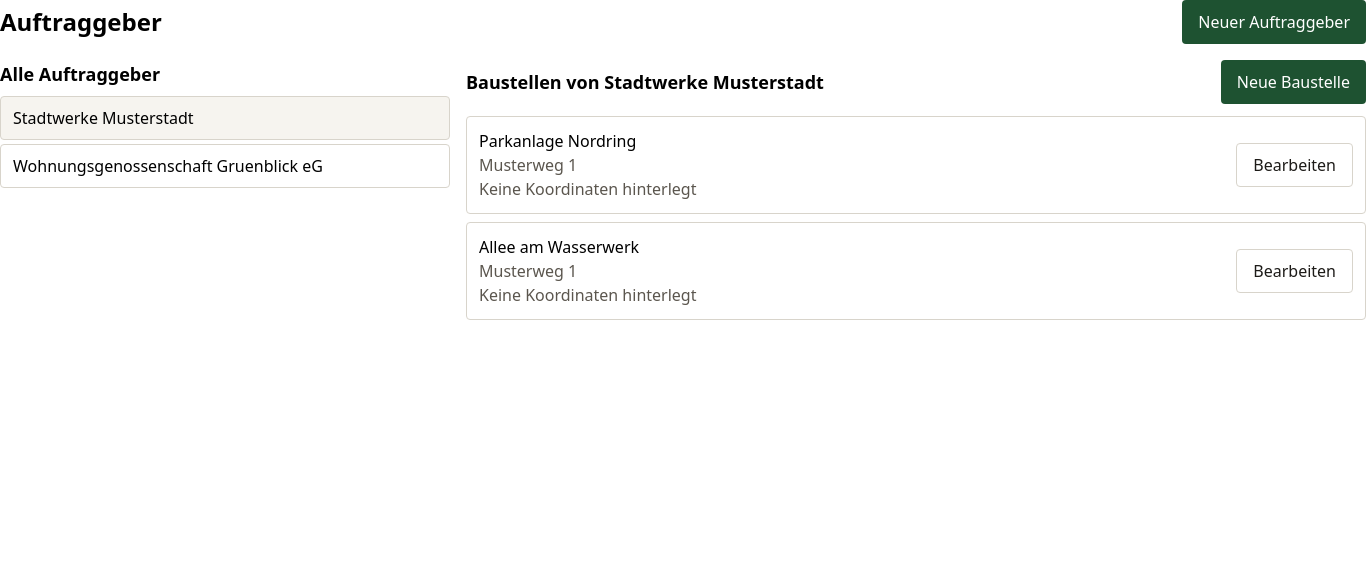
Test: CustomerPanel: Erfolg nach der Baustellenanlage (EYT-175) › behauptet bei einer fehlgeschlagenen Anlage keinen Erfolg
Step 1. Click the button "Stadtwerke Musterstadt" → (103, 118), box x1=0 y1=96 x2=450 y2=140
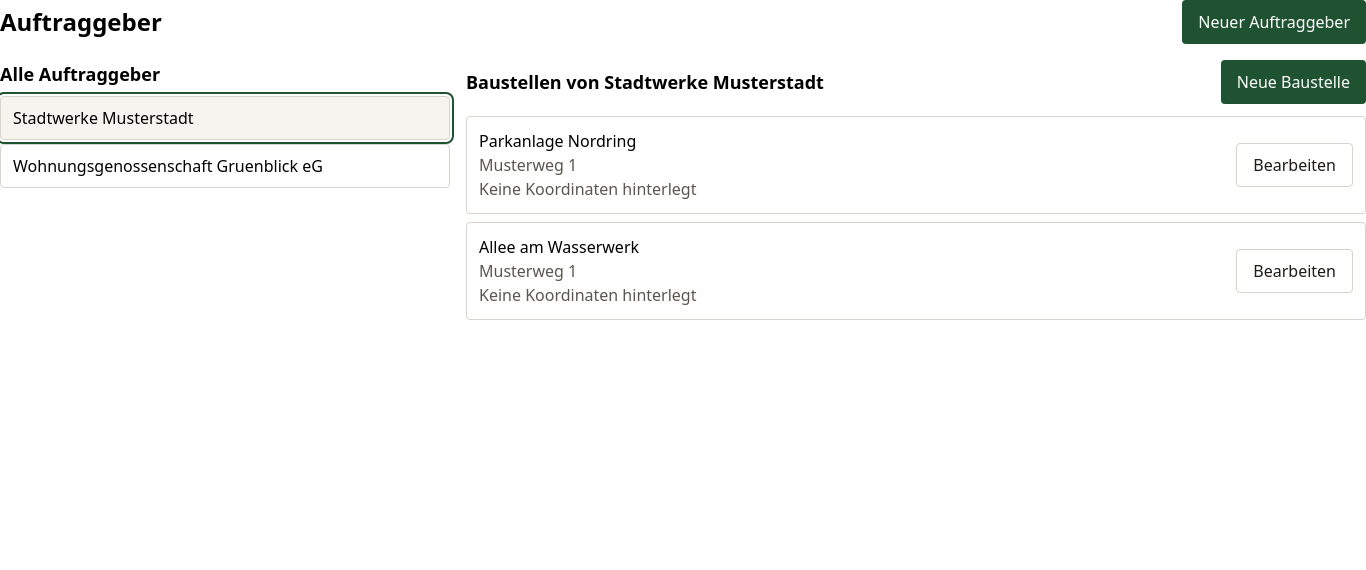
Step 2. Click the button "Neue Baustelle" → (1293, 82), box x1=1221 y1=60 x2=1365 y2=104
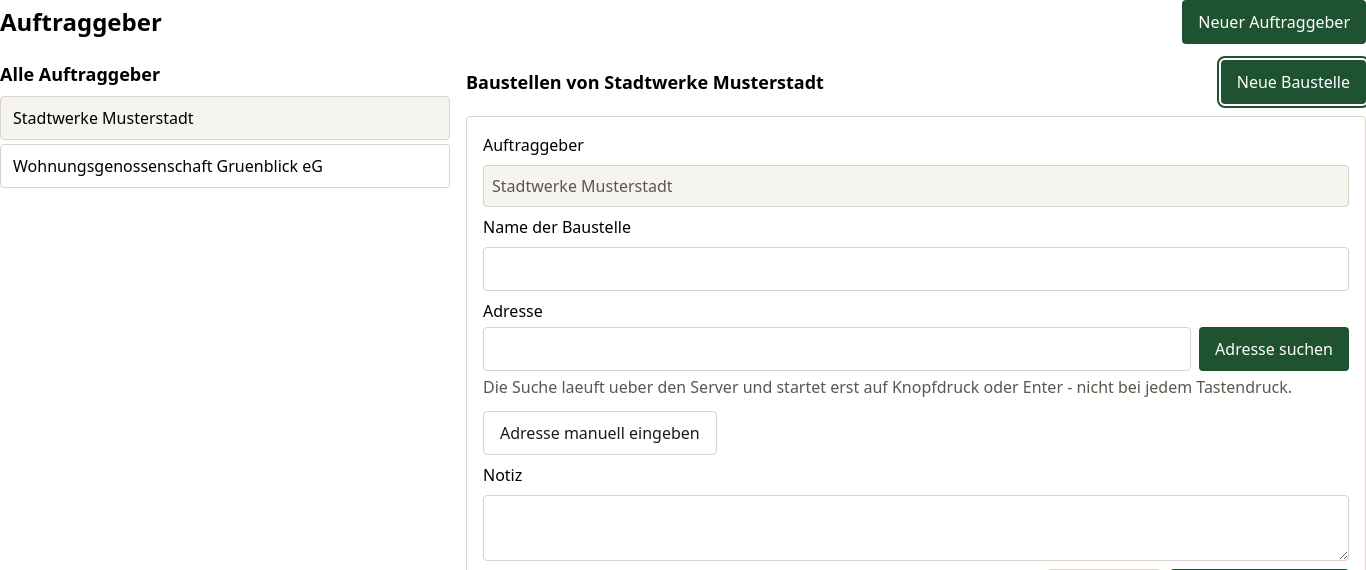
Step 3. Type "Suedpark Ost" into the field labelled "Name der Baustelle" → (916, 269), box x1=483 y1=247 x2=1349 y2=291
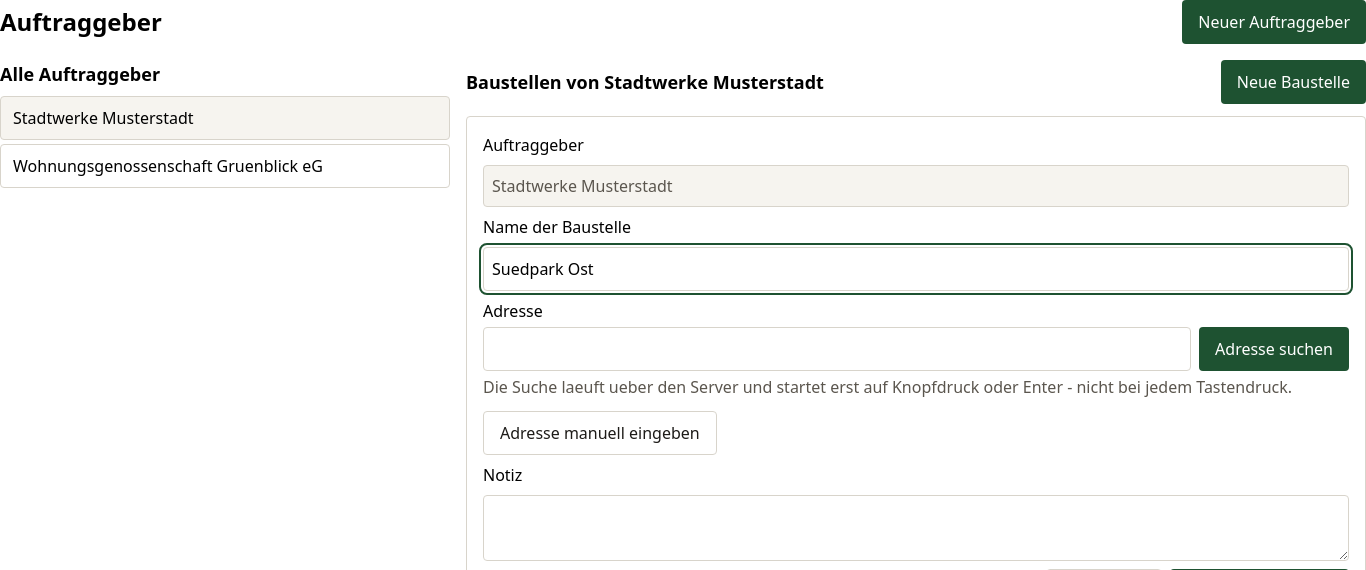
Step 4. Click the button "Adresse manuell eingeben" → (600, 433), box x1=483 y1=411 x2=717 y2=455
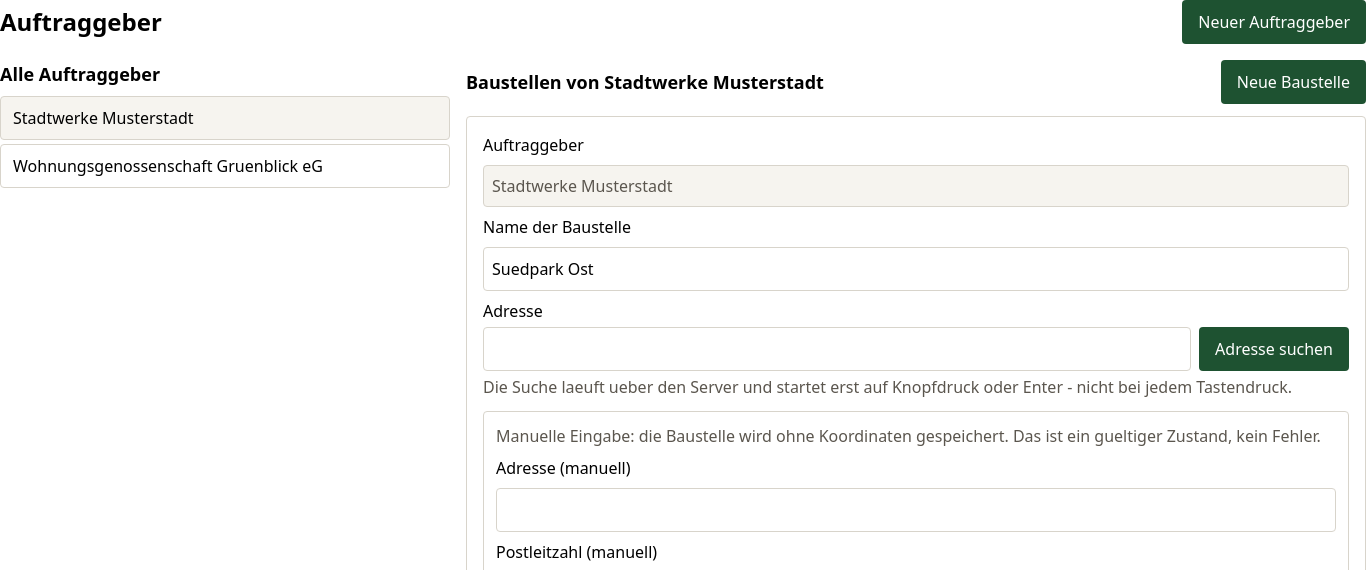
Step 5. Type "Suedallee 3" into the field labelled "Adresse (manuell)" → (916, 510), box x1=496 y1=488 x2=1336 y2=532
(page scrolled)
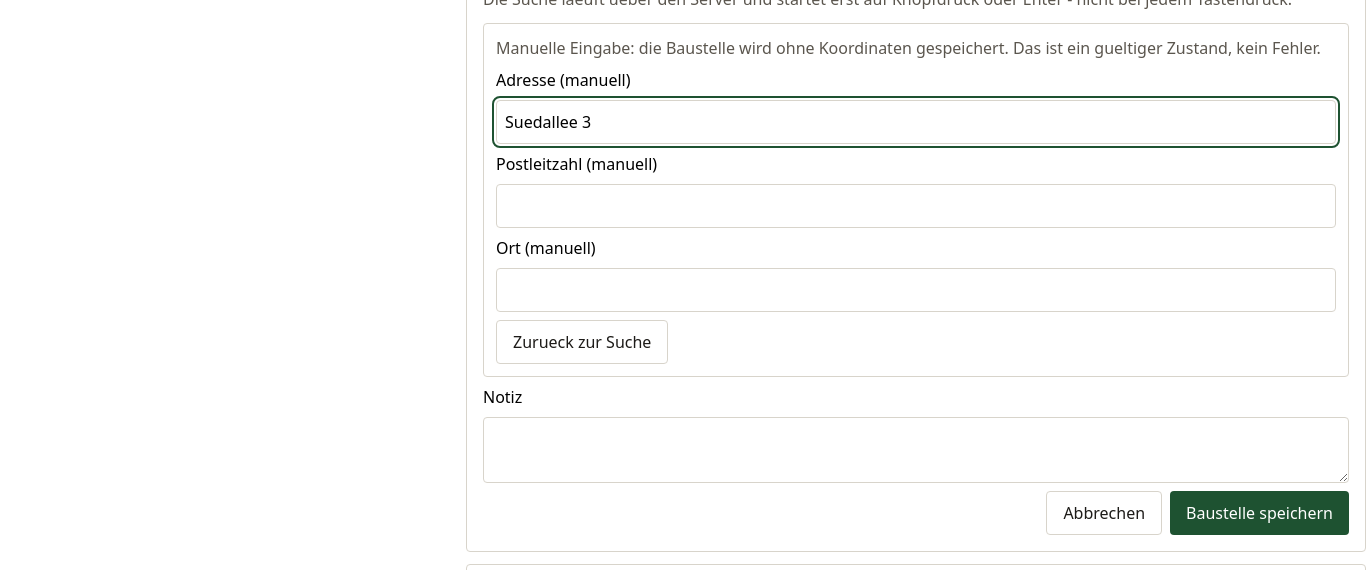
Step 6. Click the button "Baustelle speichern" → (1260, 513), box x1=1170 y1=491 x2=1349 y2=535
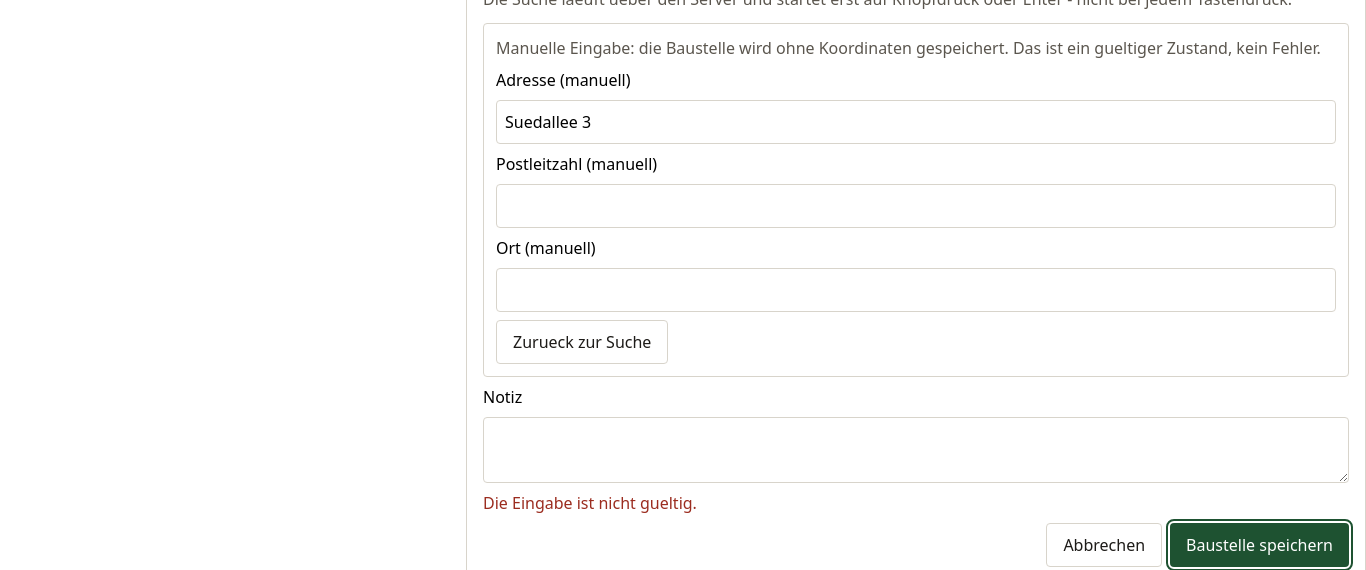
Expected: the message shows "nicht gueltig", x1=483 y1=492 x2=697 y2=514
